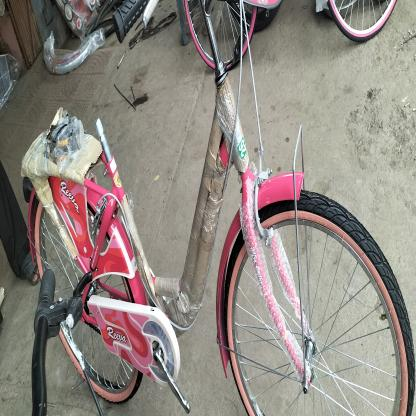bike: (7, 4, 414, 415)
